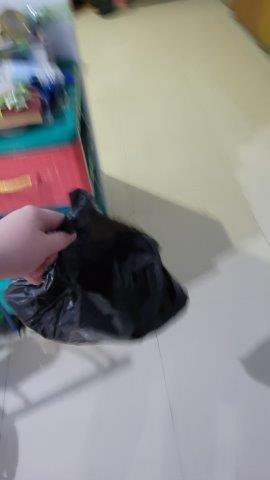plastik: (5, 186, 191, 348)
